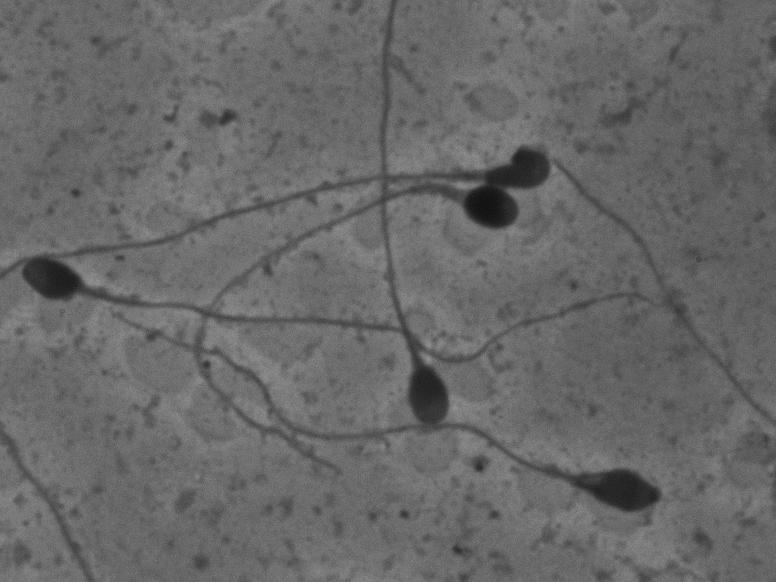Abnormal: (108, 306, 669, 523), (17, 241, 673, 372), (68, 132, 561, 267)
Normal: (184, 178, 527, 491), (372, 12, 460, 427)
